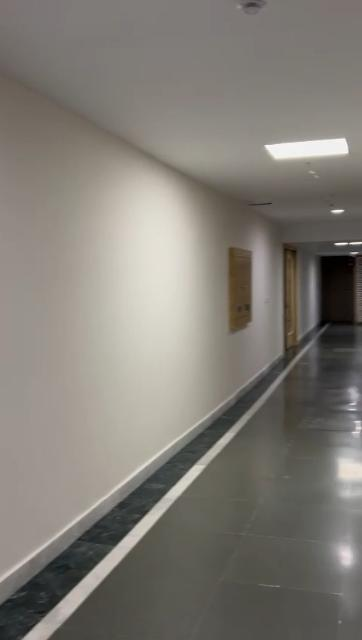floor: (0, 329, 356, 640)
wall: (3, 74, 288, 576)
